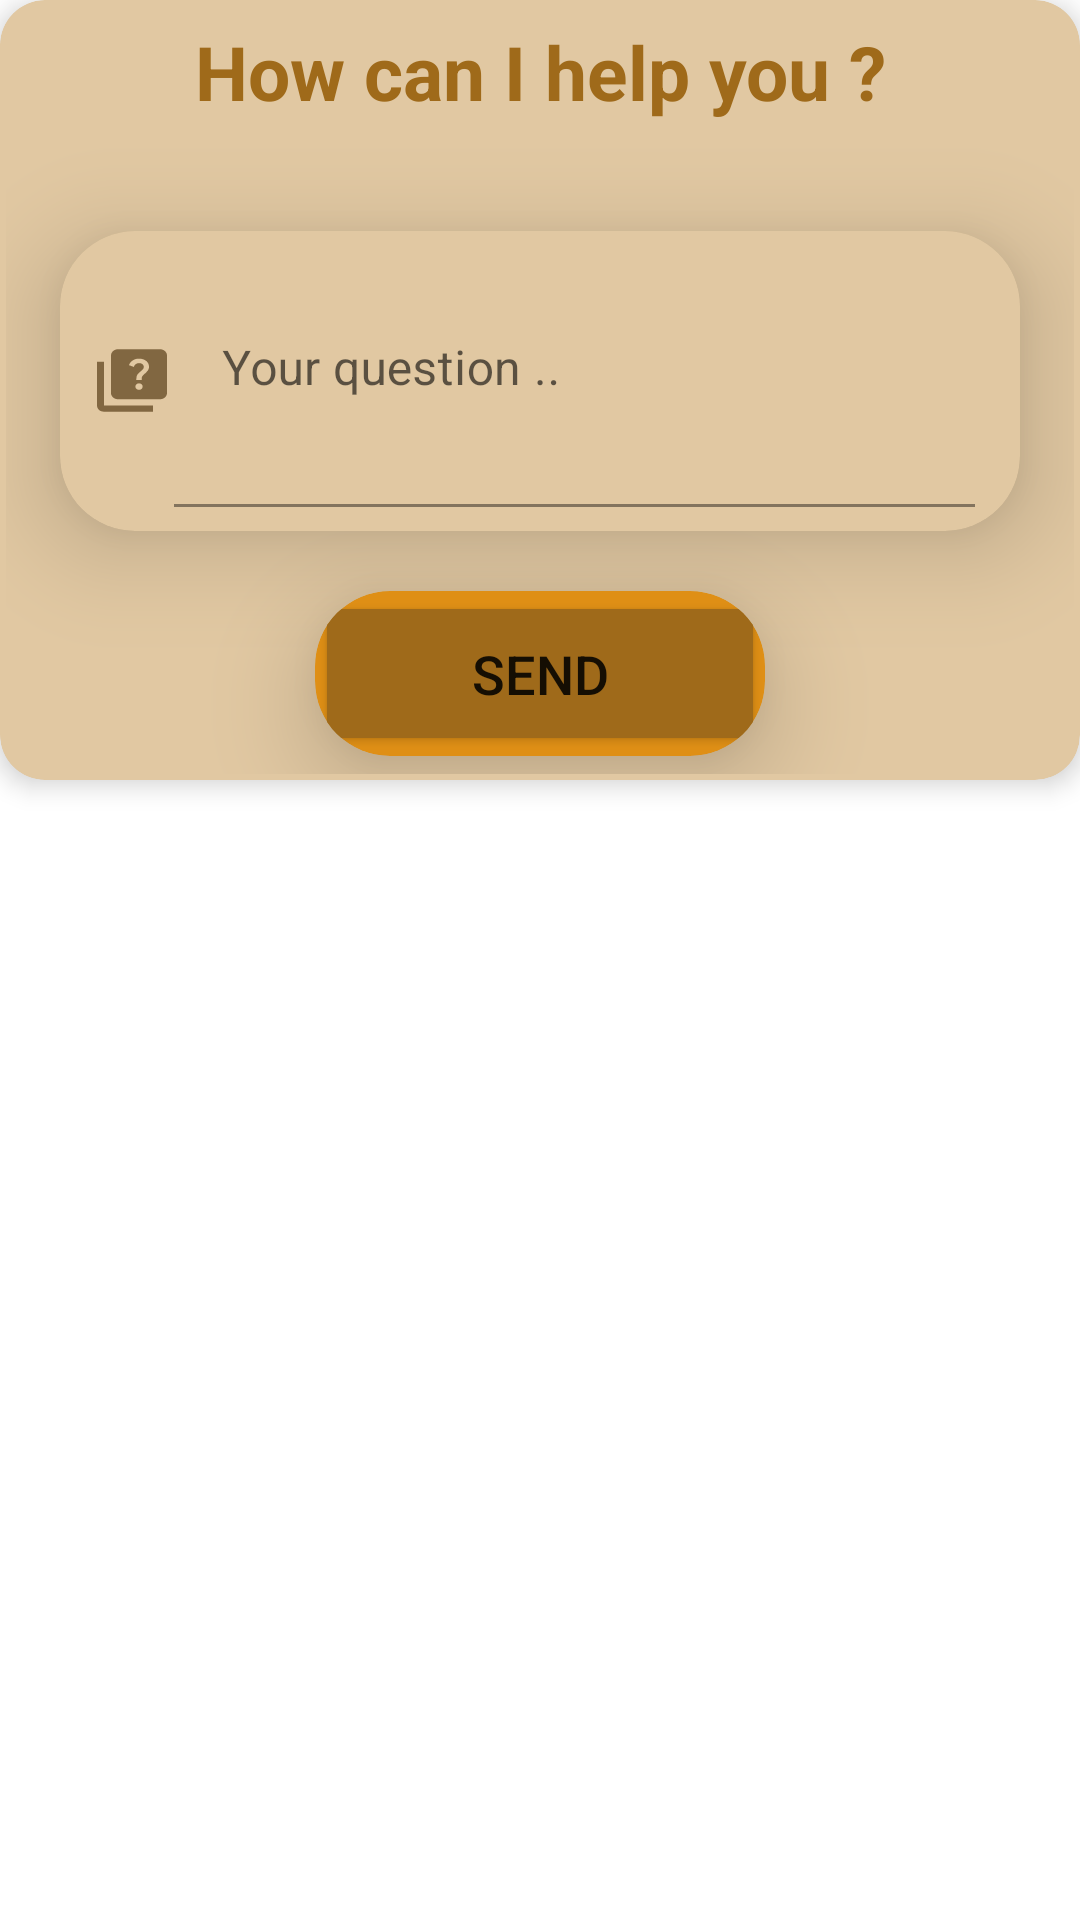

Icons on this 1080×1920 Android screen, each with its box as (x1, y1, x2, y2):
quiz: (97, 349, 167, 412)
